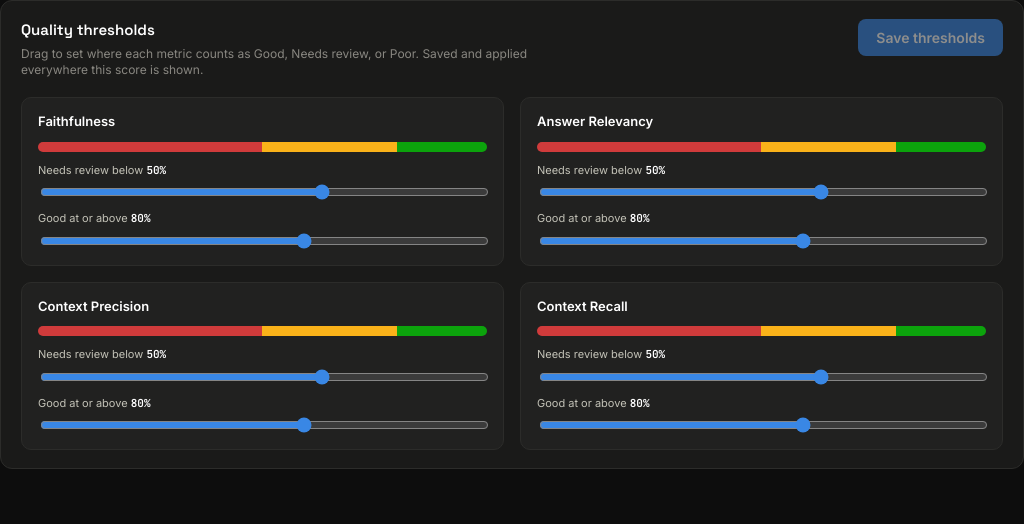
Test: ThresholdsPanel › surfaces a save error without crashing
Set the slider labelled "Needs review below 50%" below "Faithfulness" to "0.51" at {"x": 328, "y": 192}, box [40,184,489,200]
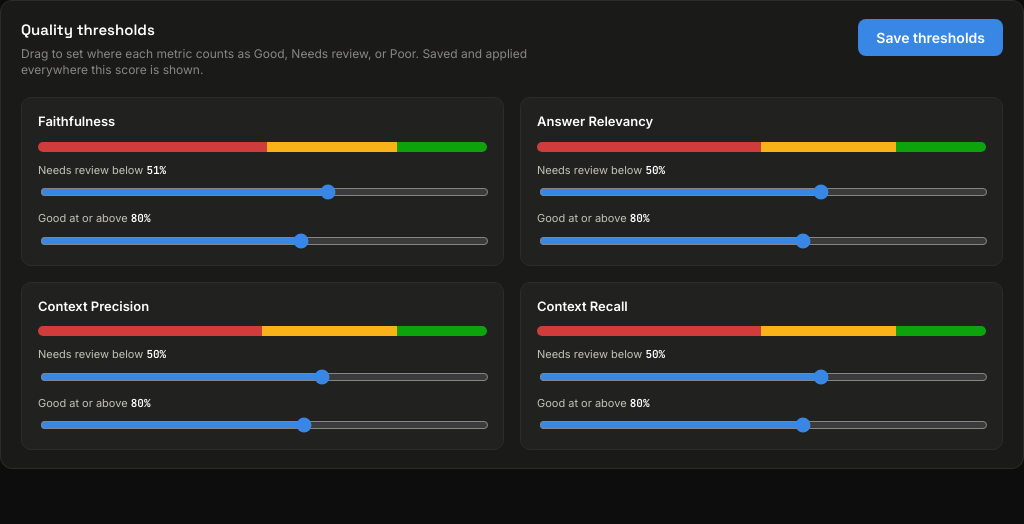
Expected: the button "Save thresholds" is enabled
Click the button "Save thresholds" at {"x": 931, "y": 38}, box [858,19,1003,56]
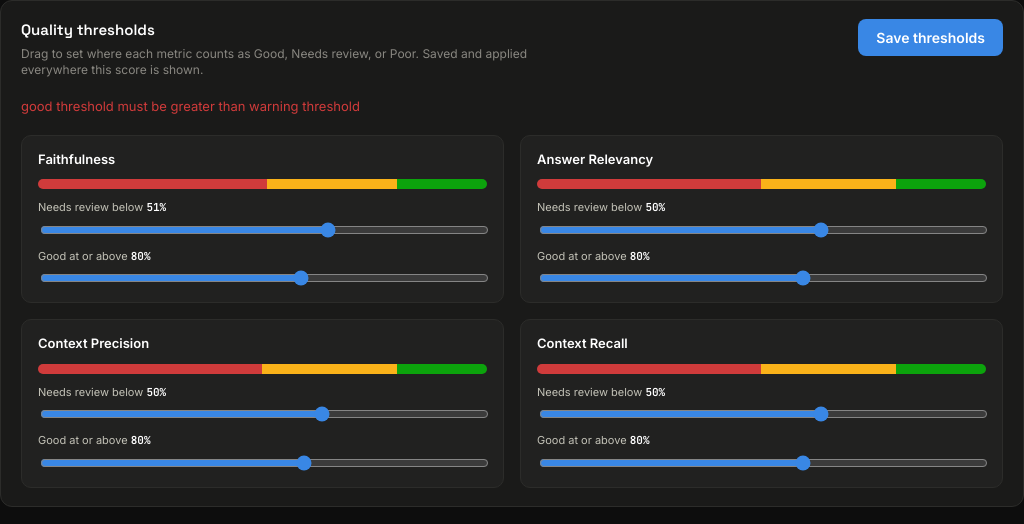
Expected: the text "good threshold must be greater than warning threshold" is shown, [21,98,360,114]
